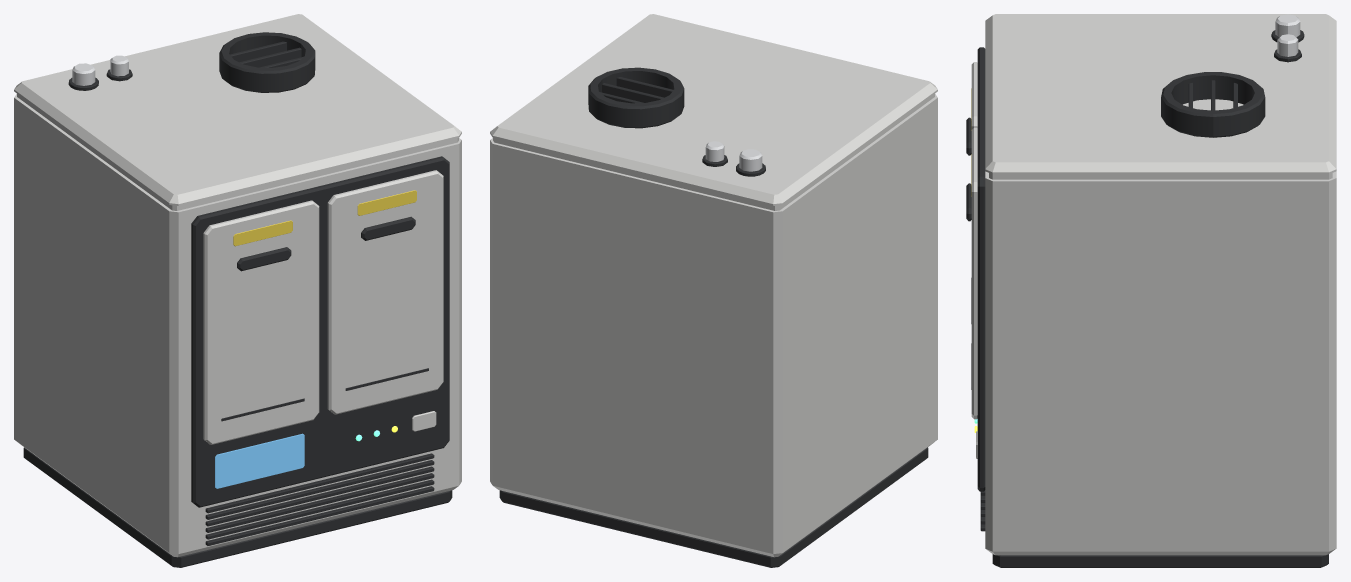
Rendered from eqm08_co2_scrubber.glb.
The picture shows the model from 3 angles, left to right: view 1: azimuth 30°, elevation 25°; view 2: azimuth 150°, elevation 25°; view 3: azimuth 270°, elevation 25°; orthographic projection. The views are drawn at different scales.
Parts seen in each view (by area): view 1: eqm08_enclosure, eqm08_canister_door_1, eqm08_canister_door_2, eqm08_intake_grille, eqm08_port_outlet, eqm08_status_display, eqm08_port_connectors; view 2: eqm08_enclosure, eqm08_port_outlet, eqm08_port_connectors; view 3: eqm08_enclosure, eqm08_port_outlet, eqm08_canister_door_2, eqm08_port_connectors, eqm08_canister_door_1.
Boxes of the visible parts, box(x1,y1,x2,y2) form: eqm08_enclosure: box(14, 14, 461, 567); eqm08_canister_door_1: box(203, 200, 319, 444); eqm08_canister_door_2: box(327, 170, 443, 414); eqm08_intake_grille: box(205, 453, 434, 545); eqm08_port_outlet: box(219, 32, 315, 92); eqm08_status_display: box(215, 433, 304, 488); eqm08_port_connectors: box(68, 55, 132, 90); eqm08_enclosure: box(490, 14, 937, 567); eqm08_port_outlet: box(588, 67, 684, 128); eqm08_port_connectors: box(702, 141, 765, 176); eqm08_enclosure: box(977, 14, 1336, 567); eqm08_port_outlet: box(1161, 72, 1265, 137); eqm08_canister_door_2: box(966, 127, 977, 419); eqm08_port_connectors: box(1271, 14, 1304, 62); eqm08_canister_door_1: box(966, 62, 977, 323).
Bounding box in the file's own units: 0.49 × 0.635 × 0.495.
